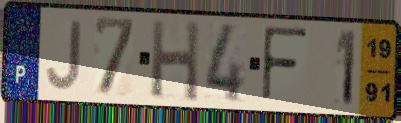1: (334, 27, 358, 110)
4: (202, 21, 248, 106)
7: (92, 15, 137, 99)
F: (259, 24, 311, 107)
H: (149, 18, 202, 105)
J: (44, 18, 84, 93)
